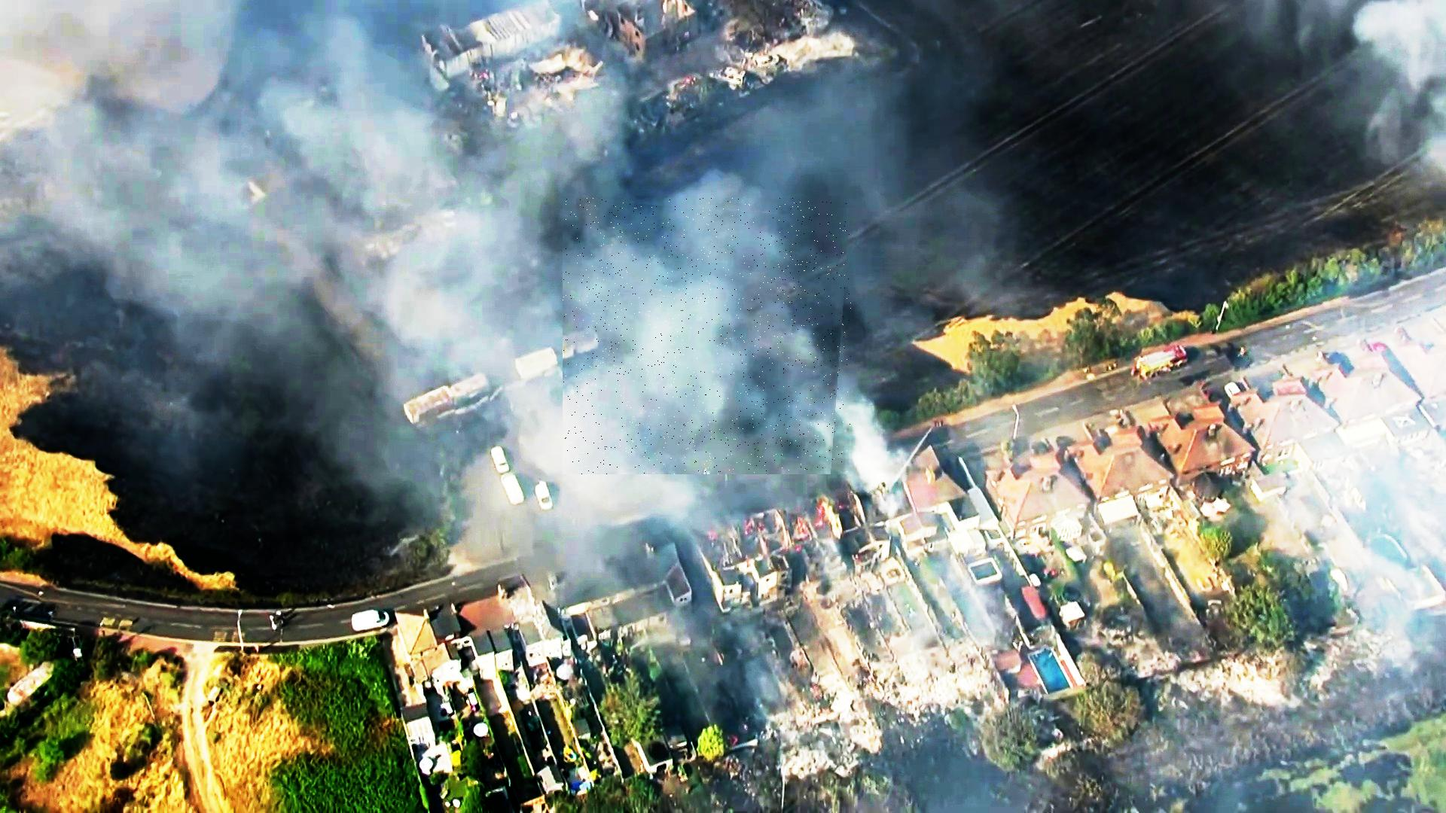smoke: (563, 198, 852, 474)
